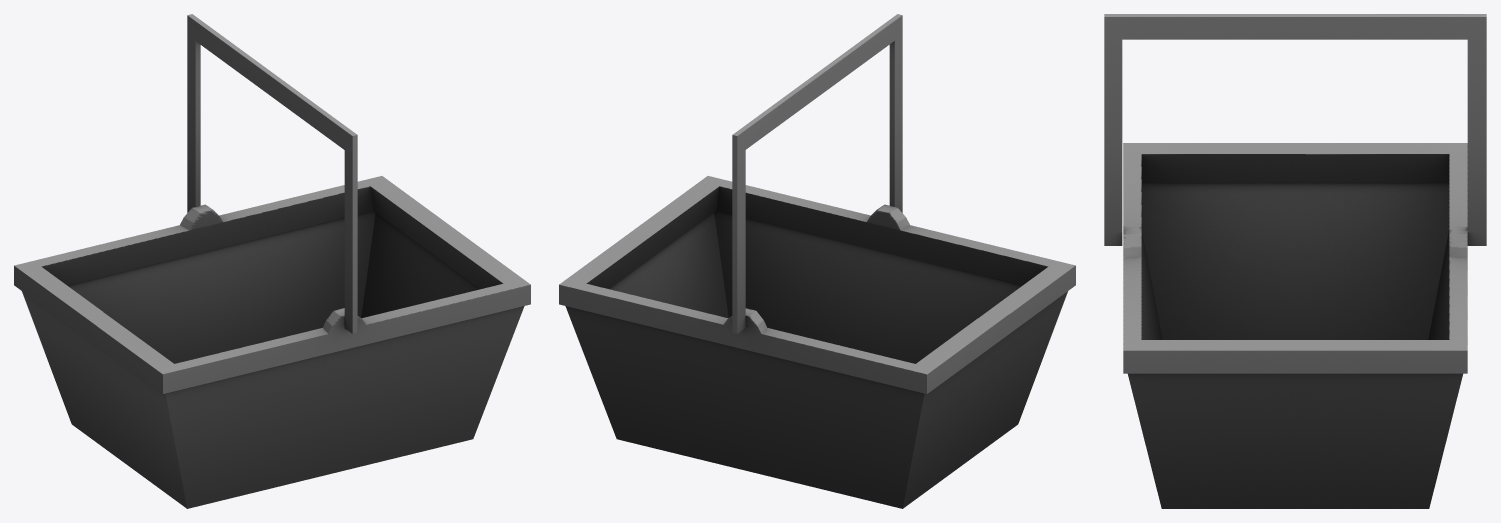
Rendered from single_basket.fbx.
The picture shows the model from 3 angles, left to right: view 1: azimuth 30°, elevation 25°; view 2: azimuth 150°, elevation 25°; view 3: azimuth 270°, elevation 25°; orthographic projection. The views are drawn at different scales.
Parts seen in each view (by area): view 1: Plane; view 2: Plane; view 3: Plane.
Boxes of the visible parts, x1,y1,x2,y2 form: Plane: (14, 14, 530, 508); Plane: (559, 14, 1075, 508); Plane: (1104, 14, 1486, 508).
Size of the model in its own units: 77.87 by 72.12 by 60.56.
